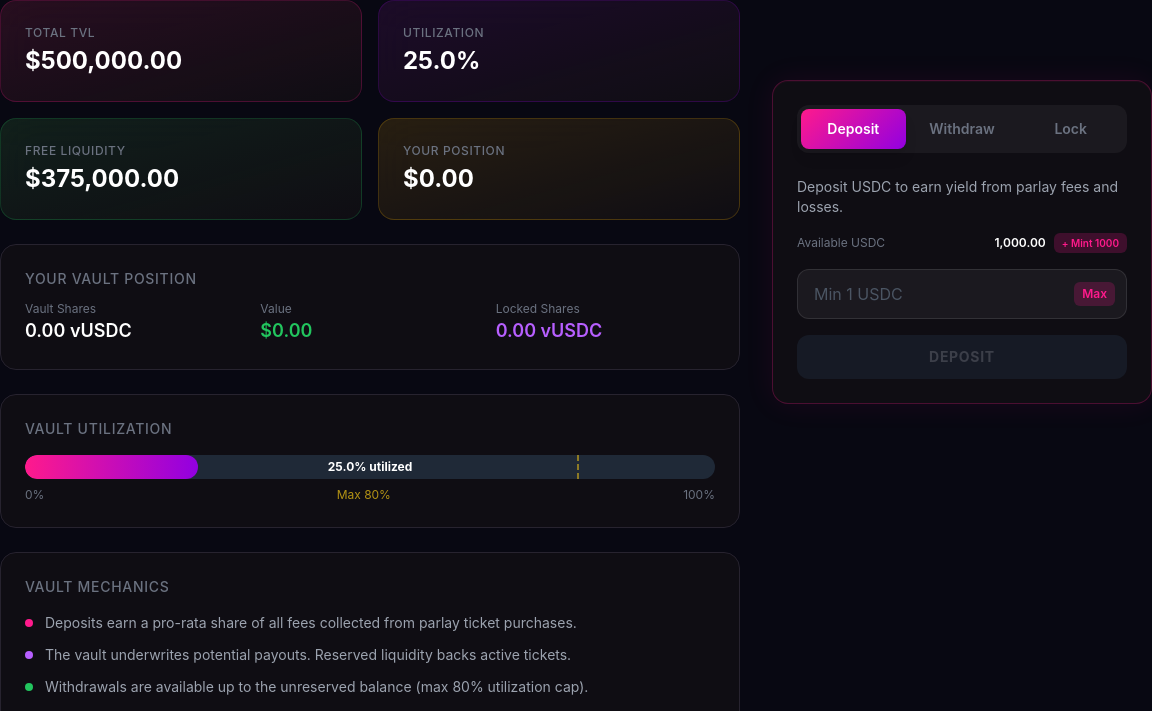
it: VaultDashboard › withdraw button priority › 'No Shares' takes priority over validation and tx state
What coordinates should you click on to do the following:
click the button "Withdraw"
I would click on:
 (962, 129)
Its box is [910,109,1014,149].
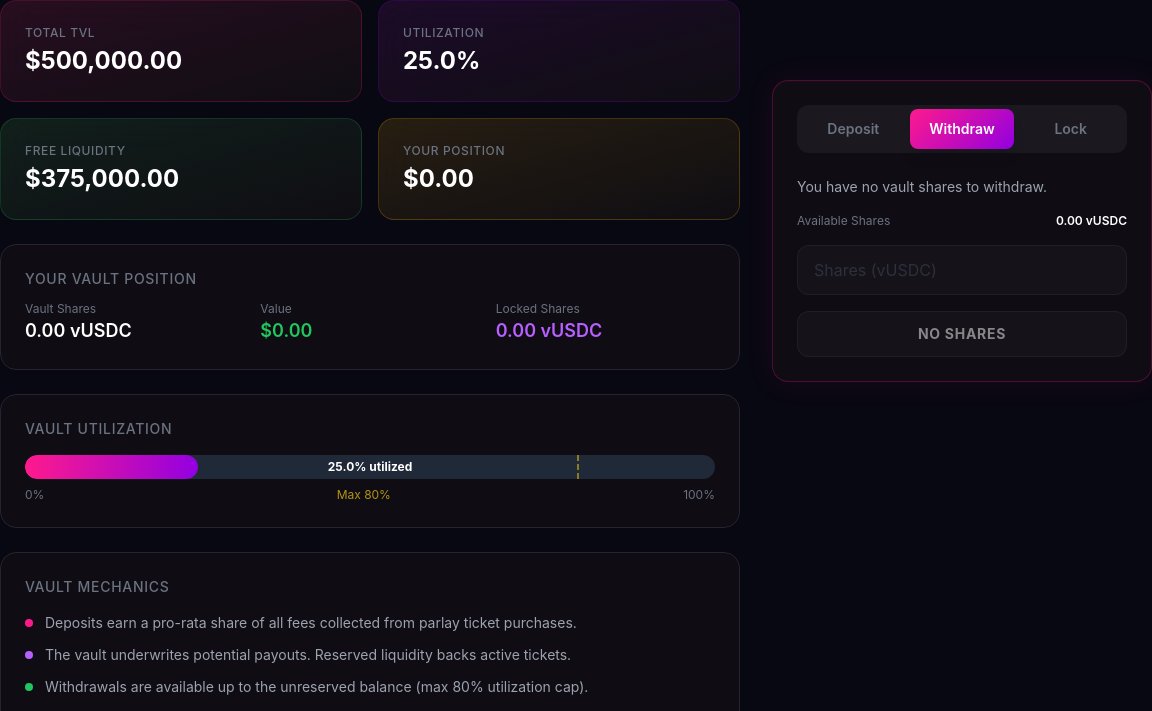
expect the button "No Shares" is shown: met, box [797,311,1127,357]
